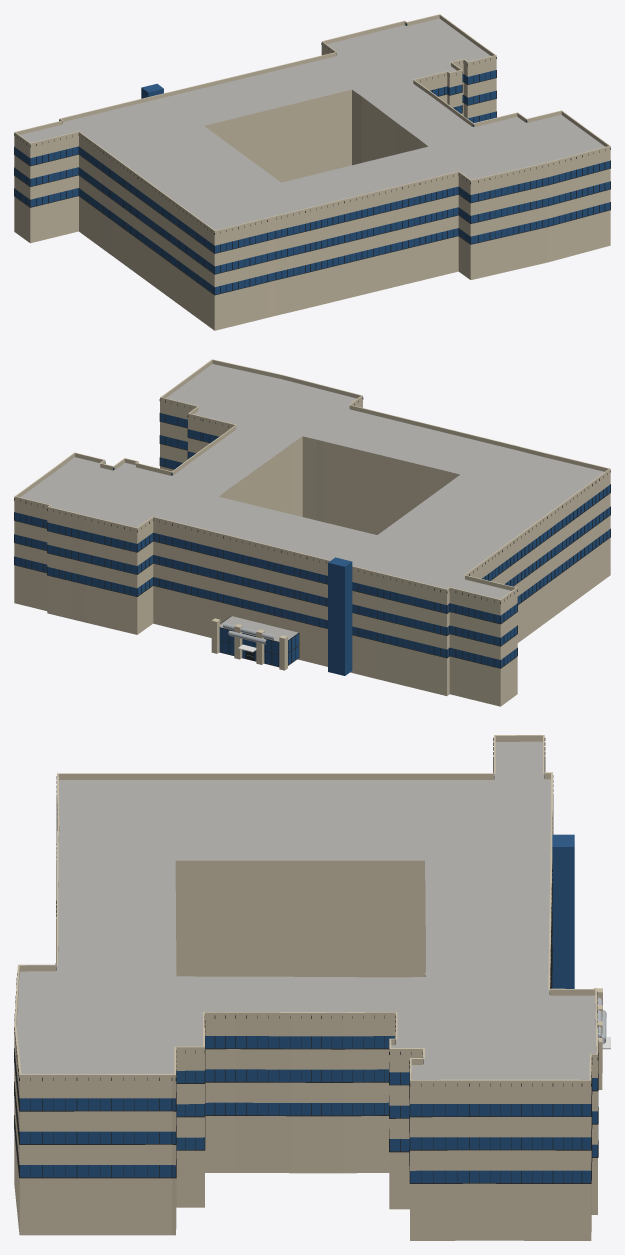
Rendered from engineering_and_computer_science_west.glb.
The picture shows the model from 3 angles, top to bottom: view 1: azimuth 30°, elevation 25°; view 2: azimuth 150°, elevation 25°; view 3: azimuth 270°, elevation 25°; orthographic projection. The views are drawn at different scales.
Visible parts, largest first — view 1: engineering_and_computer_science_west_Wall_limestone, engineering_and_computer_science_west_Roof_Membrane, engineering_and_computer_science_west_Glass_blue, engineering_and_computer_science_west_Frame_Dark; view 2: engineering_and_computer_science_west_Wall_limestone, engineering_and_computer_science_west_Roof_Membrane, engineering_and_computer_science_west_Glass_blue, engineering_and_computer_science_west_Frame_Dark; view 3: engineering_and_computer_science_west_Roof_Membrane, engineering_and_computer_science_west_Wall_limestone, engineering_and_computer_science_west_Glass_blue, engineering_and_computer_science_west_Frame_Dark.
Boxes of the visible parts, x1,y1,x2,y2 form: engineering_and_computer_science_west_Wall_limestone: (14, 14, 610, 330); engineering_and_computer_science_west_Roof_Membrane: (20, 18, 604, 230); engineering_and_computer_science_west_Glass_blue: (14, 23, 610, 294); engineering_and_computer_science_west_Frame_Dark: (14, 24, 610, 295); engineering_and_computer_science_west_Wall_limestone: (14, 359, 610, 706); engineering_and_computer_science_west_Roof_Membrane: (20, 364, 604, 641); engineering_and_computer_science_west_Glass_blue: (14, 413, 610, 675); engineering_and_computer_science_west_Frame_Dark: (14, 397, 610, 668); engineering_and_computer_science_west_Roof_Membrane: (16, 741, 596, 1079); engineering_and_computer_science_west_Wall_limestone: (14, 735, 602, 1240); engineering_and_computer_science_west_Glass_blue: (14, 834, 597, 1182); engineering_and_computer_science_west_Frame_Dark: (14, 737, 598, 1183).
Size of the model in its own units: 111 by 25.1 by 81.02.
